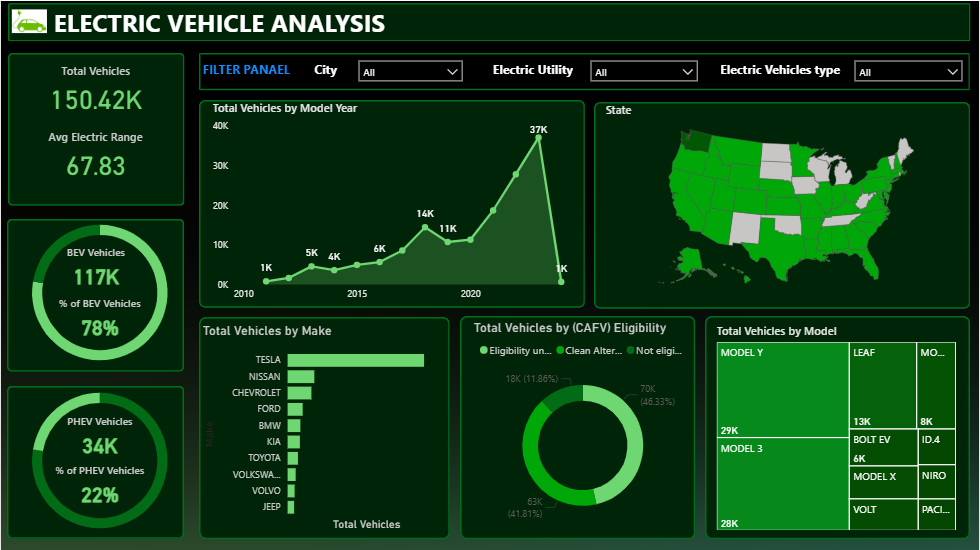

The dashboard page shown, as its layout file describes it:
{"tool":"powerbi","page":{"name":"Page 1","canvas":[1280,720],"ordinal":0},"visuals":[{"type":"shape","box":[8.6,2.9,1260,50.4],"z":0},{"type":"textbox","box":[64.8,0,460.8,53.3],"z":1000},{"type":"shape","box":[8.6,67.7,231,200],"z":2000},{"type":"card","title":"Total Vehicles","fields":{"Values":["Electric_Vehicle_Population_Data.Total Vehicles"]},"box":[18.5,80.6,211.7,72.2],"z":3000},{"type":"card","title":"Avg Electric Range","fields":{"Values":["Avg(Electric_Vehicle_Population_Data.Electric Range)"]},"box":[25.2,168,198.2,72.2],"z":4000},{"type":"shape","box":[8.4,285.6,231.8,199.9],"z":5000},{"type":"shape","box":[8.4,503.9,231.8,199.9],"z":6000},{"type":"donutChart","fields":{"Category":["Electric_Vehicle_Population_Data.Electric Vehicle Type"],"Y":["Electric_Vehicle_Population_Data.Total Vehicles"]},"box":[0,265.4,258.7,231.8],"z":7000},{"type":"card","title":"BEV Vehicles","fields":{"Values":["Electric_Vehicle_Population_Data.BEV Vehicles"]},"box":[47,319.2,154.5,63.8],"z":8000},{"type":"card","title":"% of BEV Vehicles","fields":{"Values":["Electric_Vehicle_Population_Data.% of BEV"]},"box":[51.8,385.9,154.1,63.4],"z":9000},{"type":"donutChart","fields":{"Y":["Electric_Vehicle_Population_Data.Total Vehicles"],"Category":["Electric_Vehicle_Population_Data.Electric Vehicle Type"]},"box":[0,485.5,258.7,231.8],"z":10000},{"type":"card","title":"PHEV Vehicles","fields":{"Values":["Electric_Vehicle_Population_Data.PHEV Vehicles"]},"box":[51.8,540,154.1,63.4],"z":11000},{"type":"card","title":"% of PHEV Vehicles","fields":{"Values":["Electric_Vehicle_Population_Data.% of PHEV"]},"box":[51.8,604.8,154.1,63.4],"z":12000},{"type":"shape","box":[259.2,67.7,1009.4,49],"z":13000},{"type":"shape","box":[259.2,129.6,505.4,272.2],"z":14000},{"type":"areaChart","fields":{"Category":["Electric_Vehicle_Population_Data.Model Year"],"Y":["Electric_Vehicle_Population_Data.Total Vehicles"]},"box":[272.3,129.6,479.1,272.3],"z":15000},{"type":"shape","box":[776.2,132.5,492.5,270.7],"z":16000},{"type":"shapeMap","fields":{"Category":["Electric_Vehicle_Population_Data.State"]},"box":[786.2,132.5,482.4,253.4],"z":17000},{"type":"shape","box":[259.2,413.3,328.3,290.9],"z":18000},{"type":"barChart","fields":{"Category":["Electric_Vehicle_Population_Data.Make"],"Y":["Electric_Vehicle_Population_Data.Total Vehicles"]},"box":[259.2,421.9,328.3,276.5],"z":19000},{"type":"shape","box":[600.5,411.8,308.2,292.3],"z":20000},{"type":"donutChart","title":"Total Vehicles by  (CAFV) Eligibility","fields":{"Category":["Electric_Vehicle_Population_Data.Clean Alternative Fuel Vehicle (CAFV) Eligibility"],"Y":["Electric_Vehicle_Population_Data.Total Vehicles"]},"box":[613.4,417.6,295.2,280.8],"z":21000},{"type":"shape","box":[921.6,411.8,347,292.3],"z":22000},{"type":"treemap","fields":{"Group":["Electric_Vehicle_Population_Data.Model"],"Values":["Electric_Vehicle_Population_Data.Total Vehicles"]},"box":[931.7,421.9,322.6,276.5],"z":23000},{"type":"textbox","box":[259.2,73.4,133.9,36],"z":24000},{"type":"slicer","fields":{"Values":["Electric_Vehicle_Population_Data.City"]},"box":[457.9,67.7,155.5,41.8],"z":25000},{"type":"textbox","box":[393.1,73.4,64.8,36],"z":26000},{"type":"slicer","fields":{"Values":["Electric_Vehicle_Population_Data.Electric Utility"]},"box":[761.8,67.7,159.8,51.8],"z":27000},{"type":"textbox","box":[639.4,73.4,115.2,36],"z":28000},{"type":"slicer","fields":{"Values":["Electric_Vehicle_Population_Data.Electric Vehicle Type"]},"box":[1107.4,67.7,161.3,51.8],"z":29000},{"type":"textbox","box":[931.7,73.4,175.7,36],"z":30000},{"type":"image","box":[8.6,0,56.2,53.3],"z":31000}]}

Visuals, with their boxes in screenshot pixels (x1, y1, x2, y2), scaled from the page's 1280x720 canvas onto the 980x550 screenshot:
shape: bbox(7, 2, 971, 41)
textbox: bbox(50, 0, 402, 41)
shape: bbox(7, 52, 183, 204)
"Total Vehicles" card: bbox(14, 62, 176, 117)
"Avg Electric Range" card: bbox(19, 128, 171, 183)
shape: bbox(6, 218, 184, 371)
shape: bbox(6, 385, 184, 538)
donutChart - Electric_Vehicle_Population_Data.Electric Vehicle Type x Electric_Vehicle_Population_Data.Total Vehicles: bbox(0, 203, 198, 380)
"BEV Vehicles" card: bbox(36, 244, 154, 293)
"% of BEV Vehicles" card: bbox(40, 295, 158, 343)
donutChart - Electric_Vehicle_Population_Data.Total Vehicles x Electric_Vehicle_Population_Data.Electric Vehicle Type: bbox(0, 371, 198, 548)
"PHEV Vehicles" card: bbox(40, 412, 158, 461)
"% of PHEV Vehicles" card: bbox(40, 462, 158, 510)
shape: bbox(198, 52, 971, 89)
shape: bbox(198, 99, 585, 307)
areaChart - Electric_Vehicle_Population_Data.Model Year x Electric_Vehicle_Population_Data.Total Vehicles: bbox(208, 99, 575, 307)
shape: bbox(594, 101, 971, 308)
shapeMap - Electric_Vehicle_Population_Data.State: bbox(602, 101, 971, 295)
shape: bbox(198, 316, 450, 538)
barChart - Electric_Vehicle_Population_Data.Make x Electric_Vehicle_Population_Data.Total Vehicles: bbox(198, 322, 450, 534)
shape: bbox(460, 315, 696, 538)
"Total Vehicles by  (CAFV) Eligibility" donutChart: bbox(470, 319, 696, 534)
shape: bbox(706, 315, 971, 538)
treemap - Electric_Vehicle_Population_Data.Model x Electric_Vehicle_Population_Data.Total Vehicles: bbox(713, 322, 960, 534)
textbox: bbox(198, 56, 301, 84)
slicer - Electric_Vehicle_Population_Data.City: bbox(351, 52, 470, 84)
textbox: bbox(301, 56, 351, 84)
slicer - Electric_Vehicle_Population_Data.Electric Utility: bbox(583, 52, 706, 91)
textbox: bbox(490, 56, 578, 84)
slicer - Electric_Vehicle_Population_Data.Electric Vehicle Type: bbox(848, 52, 971, 91)
textbox: bbox(713, 56, 848, 84)
image: bbox(7, 0, 50, 41)
